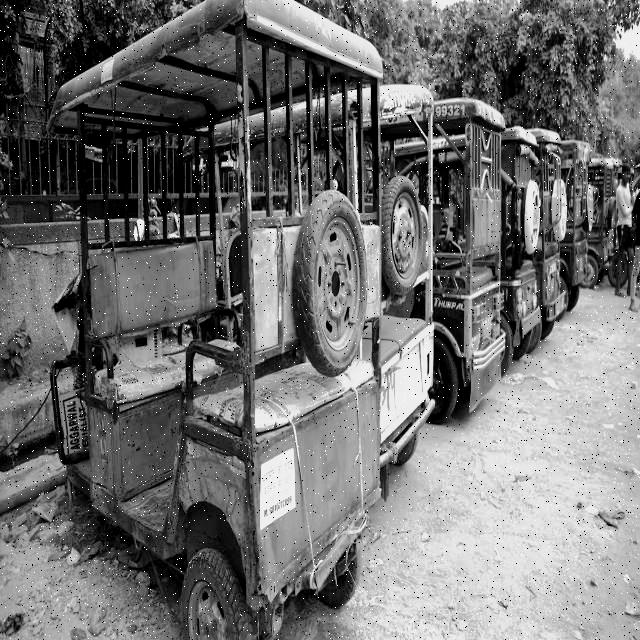Toto: (54, 2, 386, 640), (373, 75, 433, 467), (440, 97, 506, 437), (504, 130, 546, 366)
